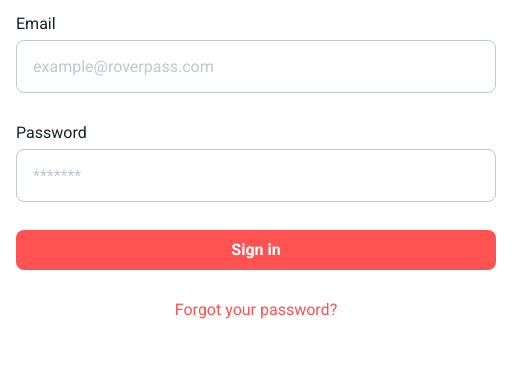
Test case: Sign In form test › prevent onsubmit event & show message error
The width and height of the screenshot is (513, 386).
Click the button "Sign in" at (256, 250), box [16, 230, 496, 270]
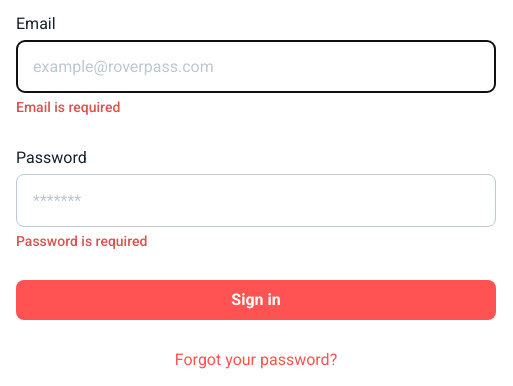
expect the text "Email is required" is shown: met, box [16, 99, 120, 115]
expect the text "Password is required" is shown: met, box [16, 233, 147, 249]
